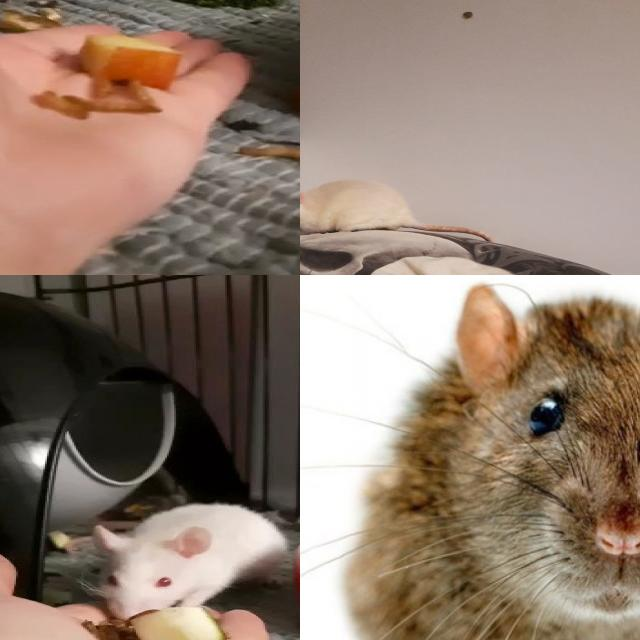rat: (326, 275, 640, 640), (85, 504, 288, 625), (300, 175, 414, 238)
